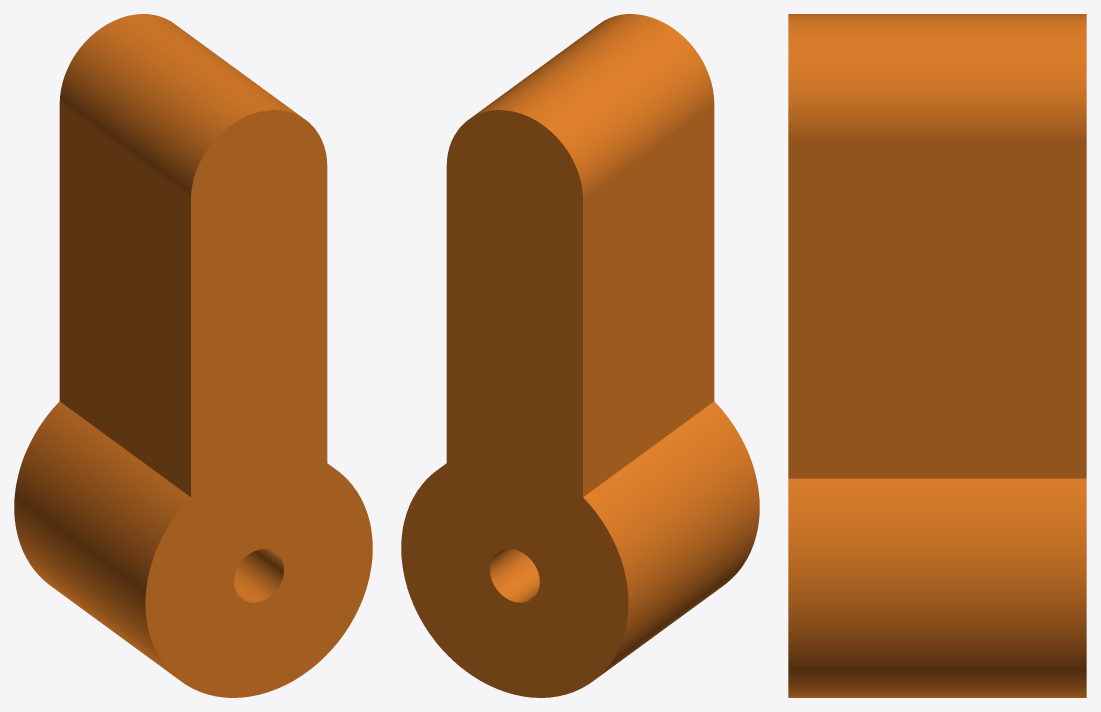
File: finger.glb
The picture shows the model from 3 angles, left to right: view 1: azimuth 30°, elevation 25°; view 2: azimuth 150°, elevation 25°; view 3: azimuth 270°, elevation 25°; orthographic projection. The views are drawn at different scales.
Visible parts, largest first — view 1: finger; view 2: finger; view 3: finger.
Boxes of the visible parts, left/top/right/bottom form: finger: left=14, top=14, right=372, bottom=697; finger: left=401, top=14, right=759, bottom=697; finger: left=788, top=14, right=1086, bottom=697.
Bounding box in the file's own units: 0.01 × 0.0245 × 0.01.
